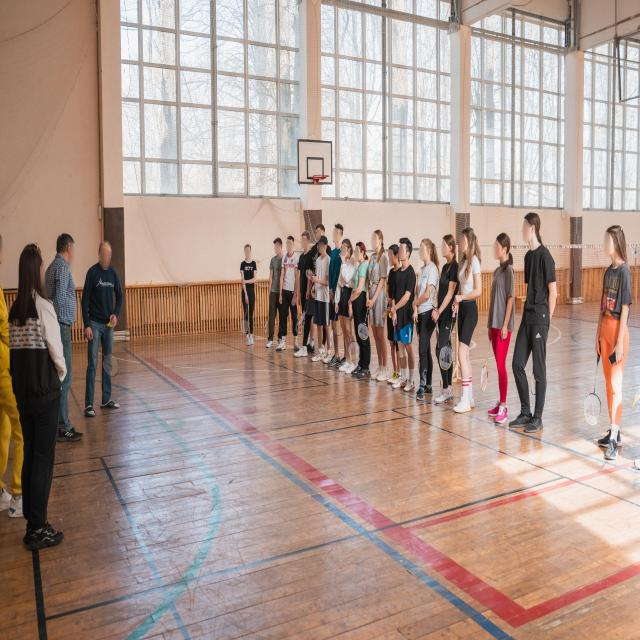Person: (578, 201, 635, 467), (13, 237, 55, 550), (511, 199, 558, 449), (80, 237, 128, 424), (482, 221, 518, 430), (48, 224, 80, 446), (452, 219, 484, 426), (433, 224, 459, 420), (409, 230, 438, 405), (393, 223, 415, 395), (370, 216, 390, 386), (237, 232, 262, 350), (312, 216, 330, 375), (277, 234, 300, 356), (351, 224, 368, 389), (336, 230, 355, 377), (294, 229, 314, 362), (264, 231, 285, 355), (329, 219, 345, 372), (388, 234, 398, 390)
